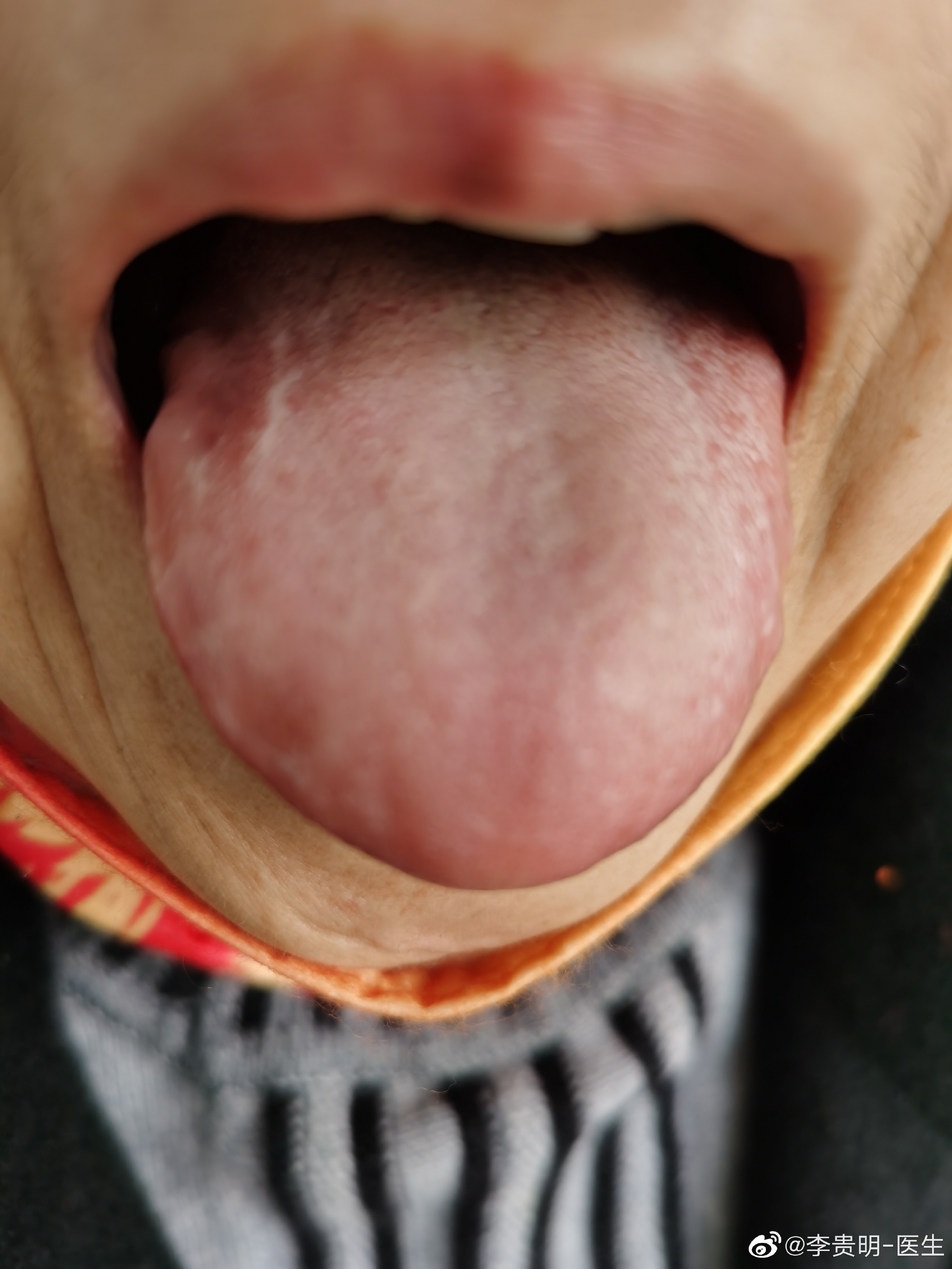baitaishe: (144, 233, 793, 890)
